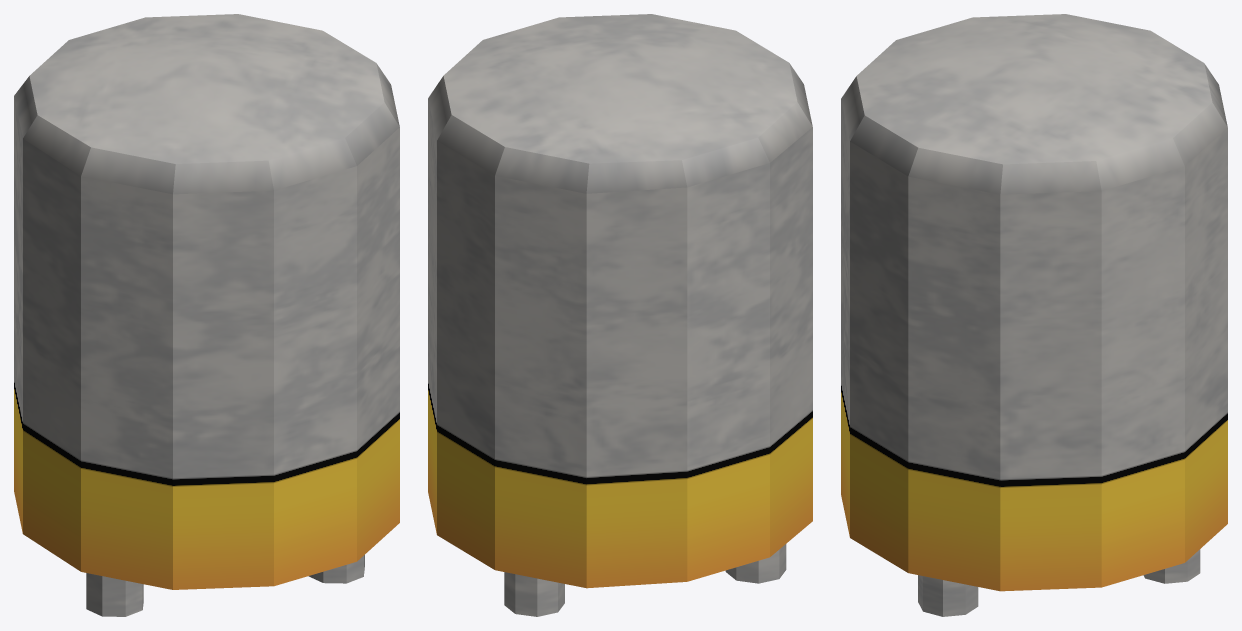
File: Refuel_03.fbx
The picture shows the model from 3 angles, left to right: view 1: azimuth 30°, elevation 25°; view 2: azimuth 150°, elevation 25°; view 3: azimuth 270°, elevation 25°; orthographic projection.
Visible parts, largest first — view 1: Refuel_03; view 2: Refuel_03; view 3: Refuel_03.
Boxes of the visible parts, x1,y1,x2,y2 form: Refuel_03: (14,14,399,616); Refuel_03: (428,14,812,616); Refuel_03: (841,14,1227,616).
Bounding box in the file's own units: 14.39 × 20.45 × 14.39.
Materials: 1 (1 with a texture image).
